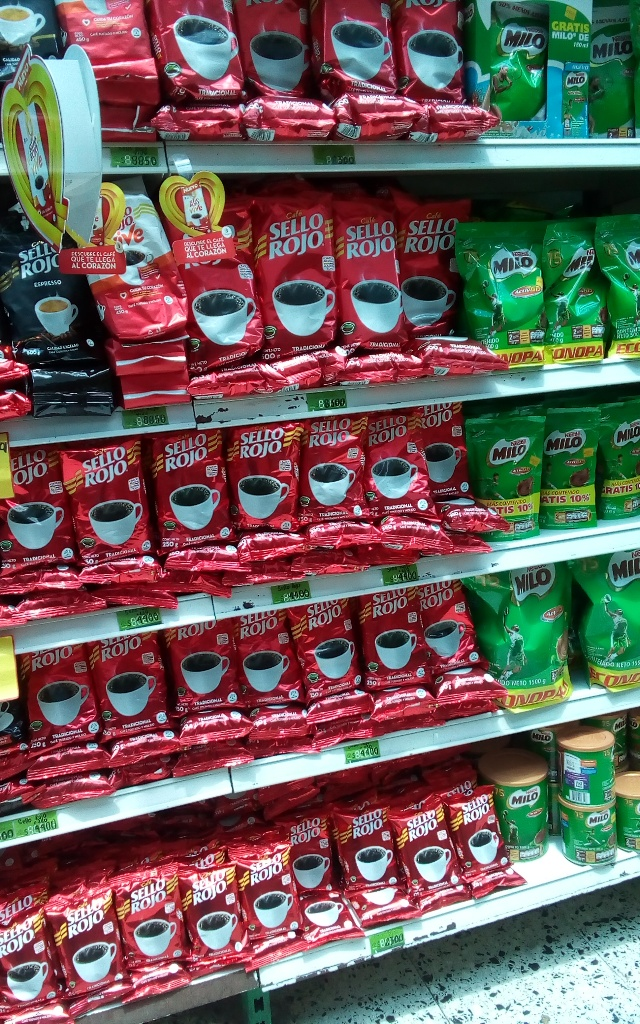COL0170203DYP50000: (589, 205, 637, 366)
COL0170203LAT40000: (555, 795, 624, 867)
COL0170205DYP50000: (477, 2, 560, 122)
